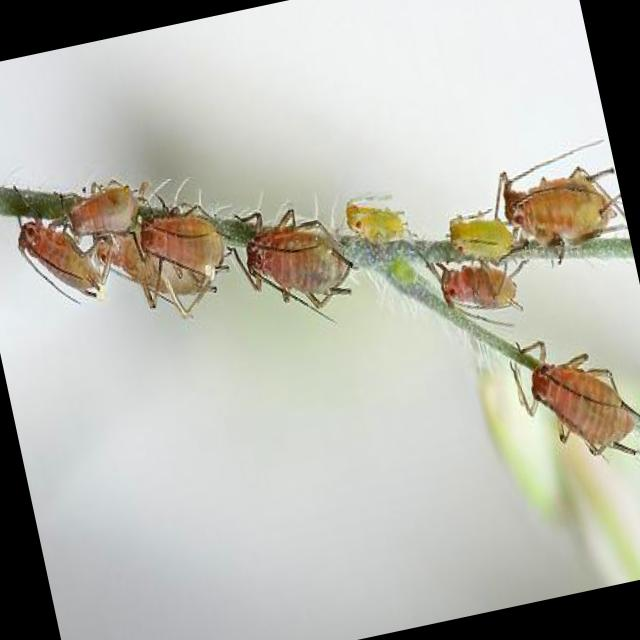Aphid: (496, 309, 640, 519), (222, 193, 371, 343), (492, 116, 627, 268), (2, 176, 130, 320), (426, 240, 542, 348), (129, 188, 239, 296), (49, 168, 159, 259), (437, 197, 527, 284), (341, 183, 423, 262)
